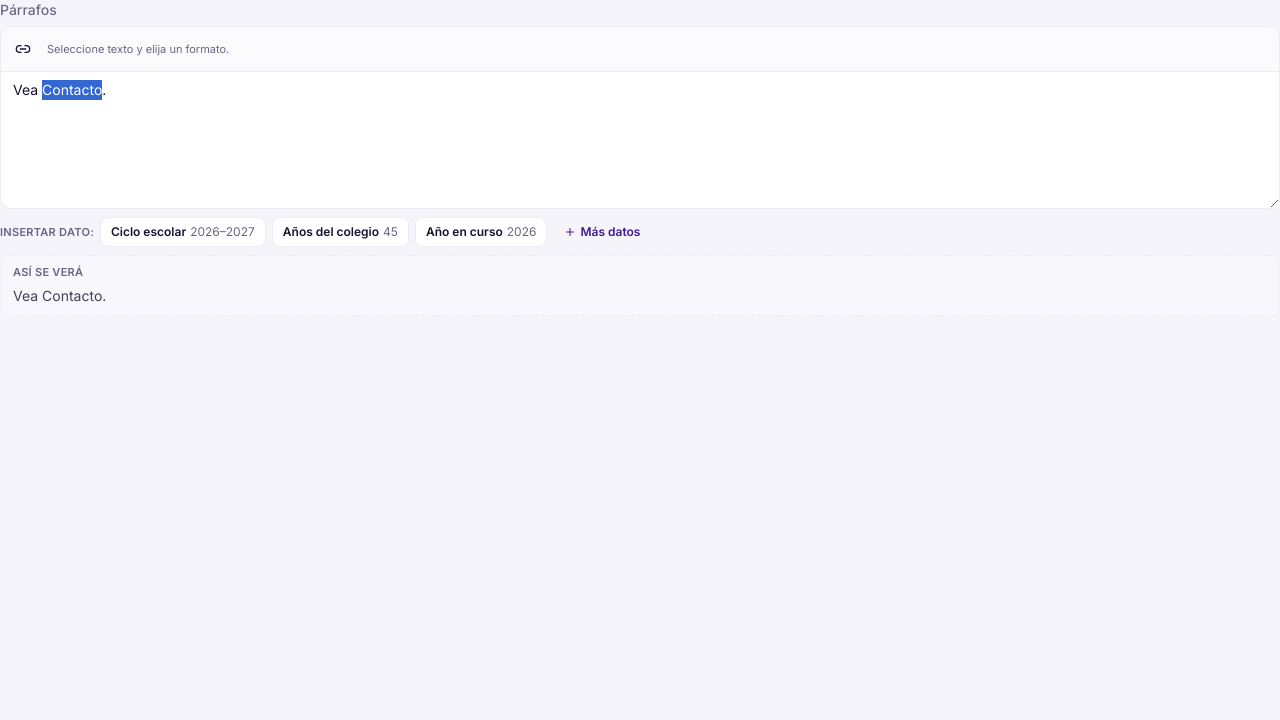
Test: MarkTextField › writes [texto](/ruta) from the link picker
The width and height of the screenshot is (1280, 720).
Click the button named "Enlace": (23, 49) [5, 31, 41, 67]
(page scrolled)
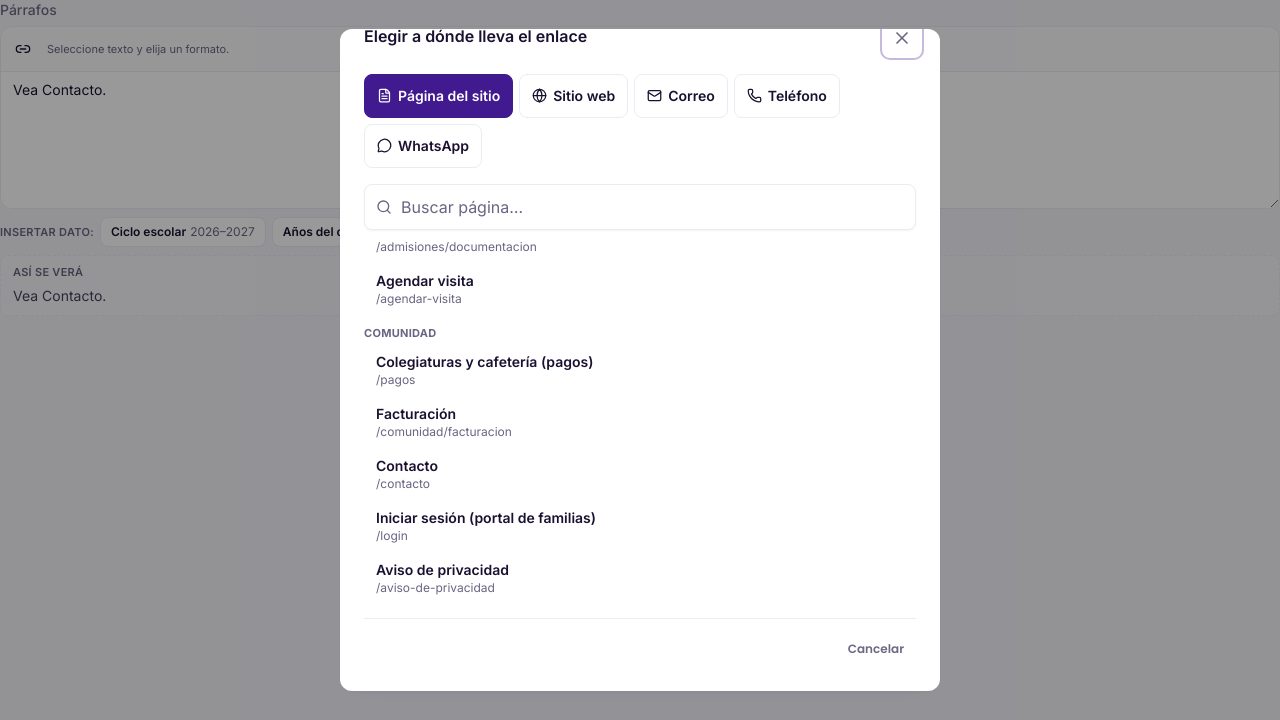
Click the button "Contacto /contacto": (407, 465) [364, 450, 912, 498]
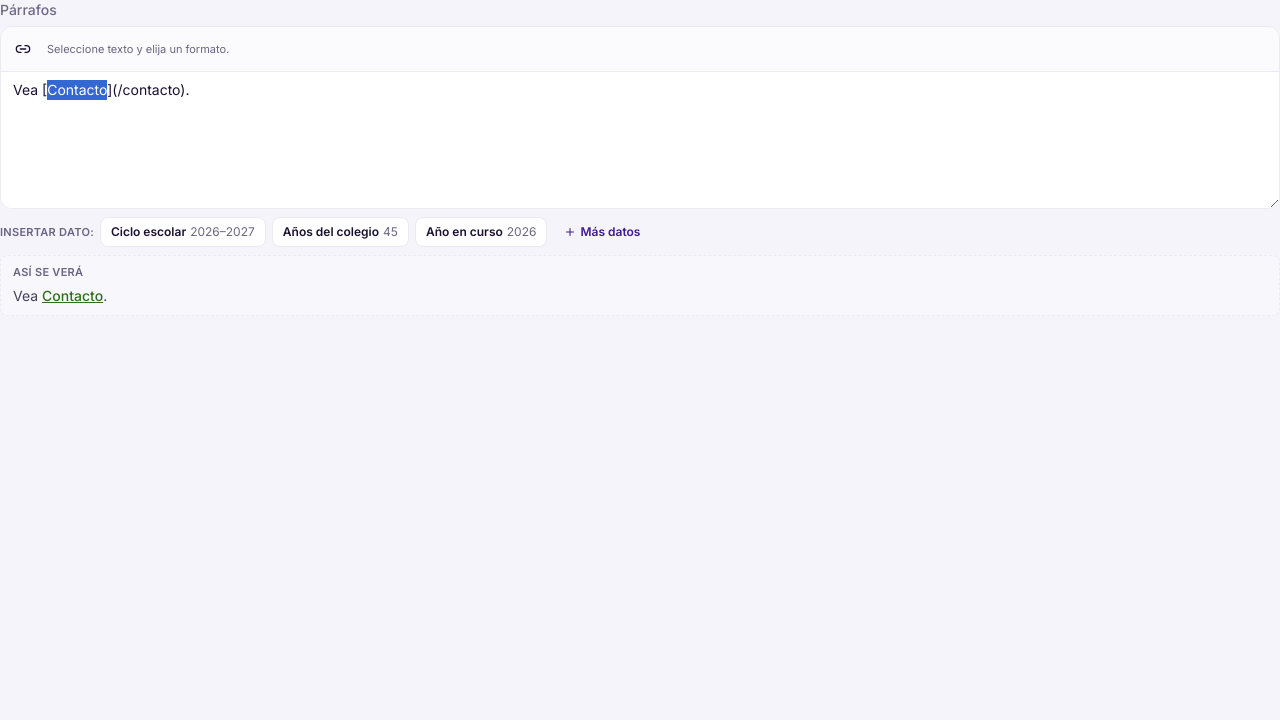
Now the text box labelled "Párrafos" holds "Vea [Contacto](/contacto).", box [1, 72, 1279, 208]
